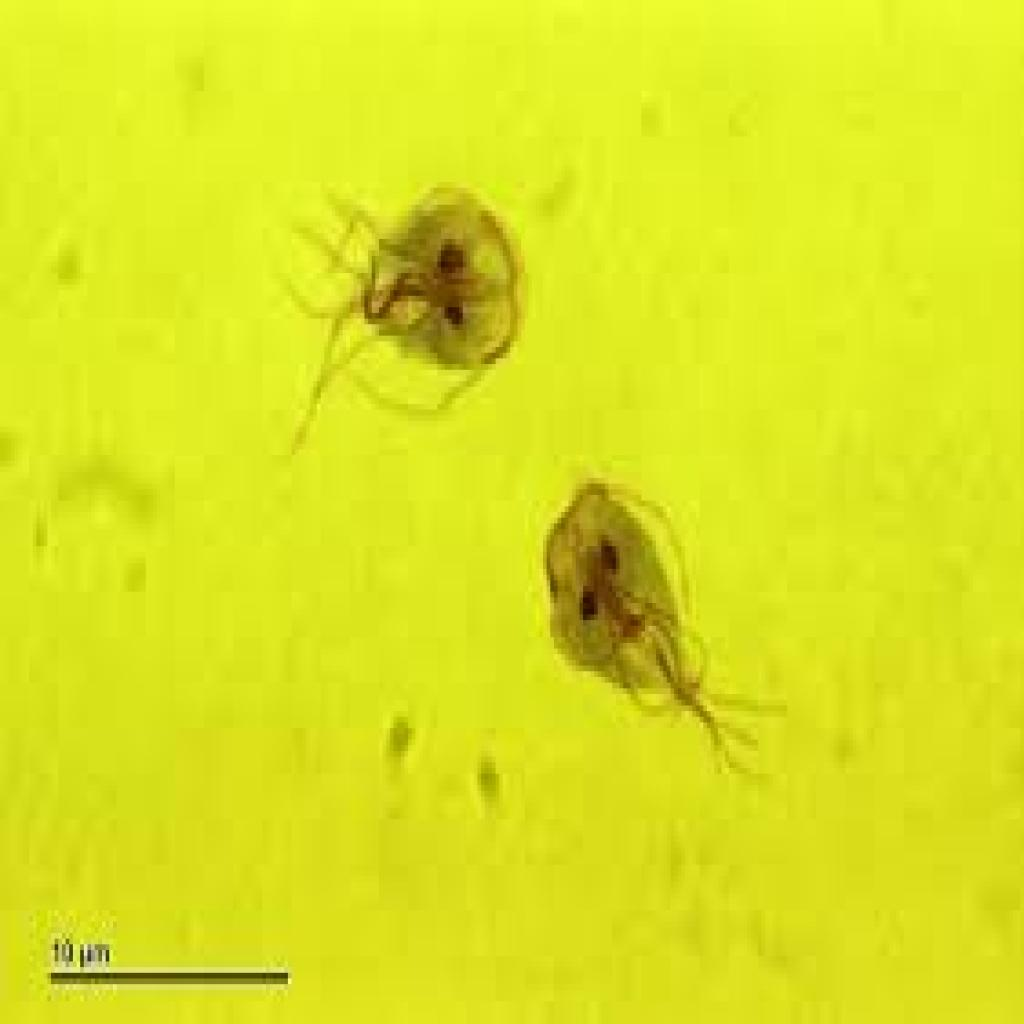Giardia: (536, 467, 750, 785), (321, 176, 528, 410)
